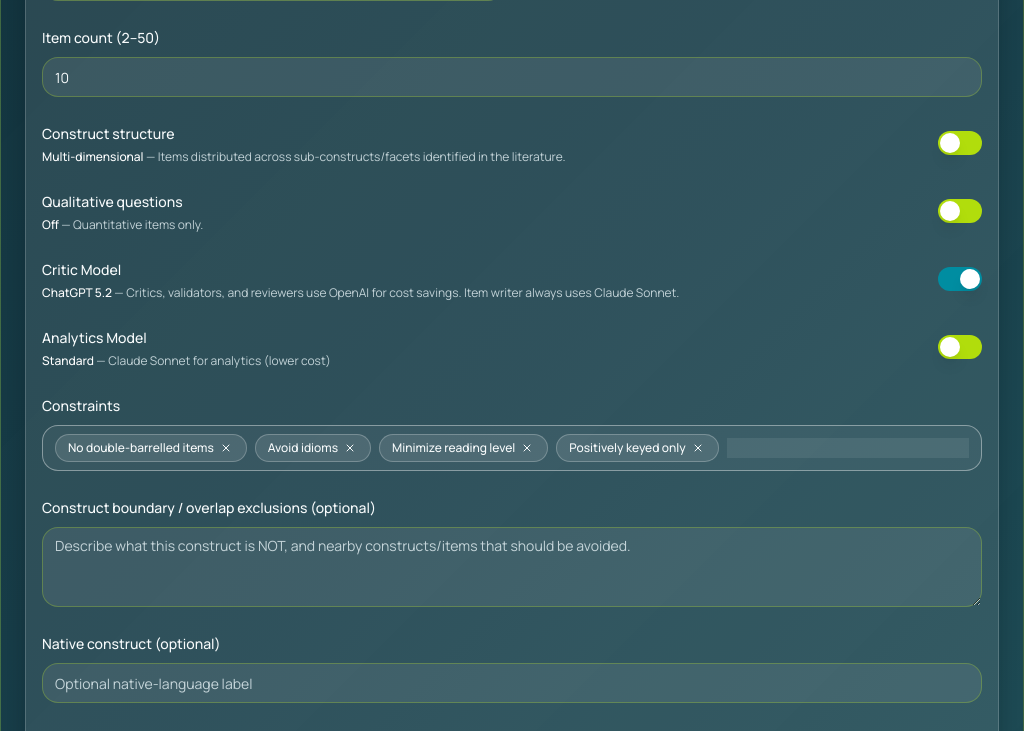
InstrumentSetupForm - Basic Form Functionality › GPT-5.2 toggle changes label when enabled
(page scrolled)
// Click to enable
Click the switch named "Analytics Model" in the row of "Analytics Model": x=960, y=347 [938,335,982,359]
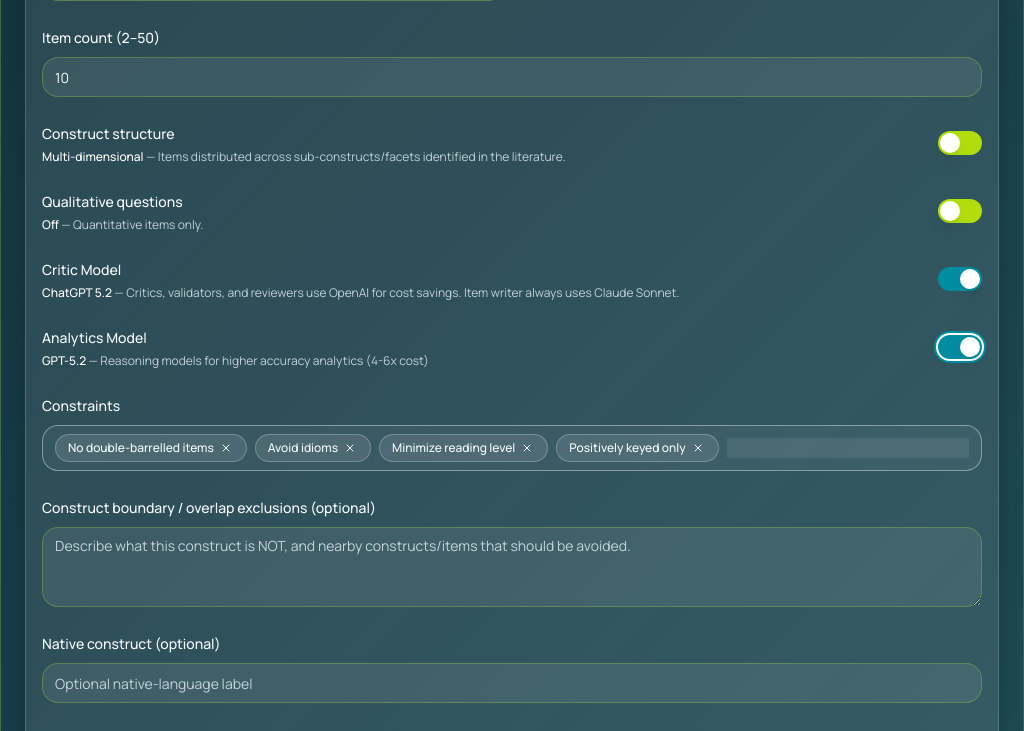
expect the text "GPT-5.2" is shown: met, box [42,352,86,369]
expect the text "Reasoning models for higher accuracy analytics" is shown: met, box [86,352,429,369]
